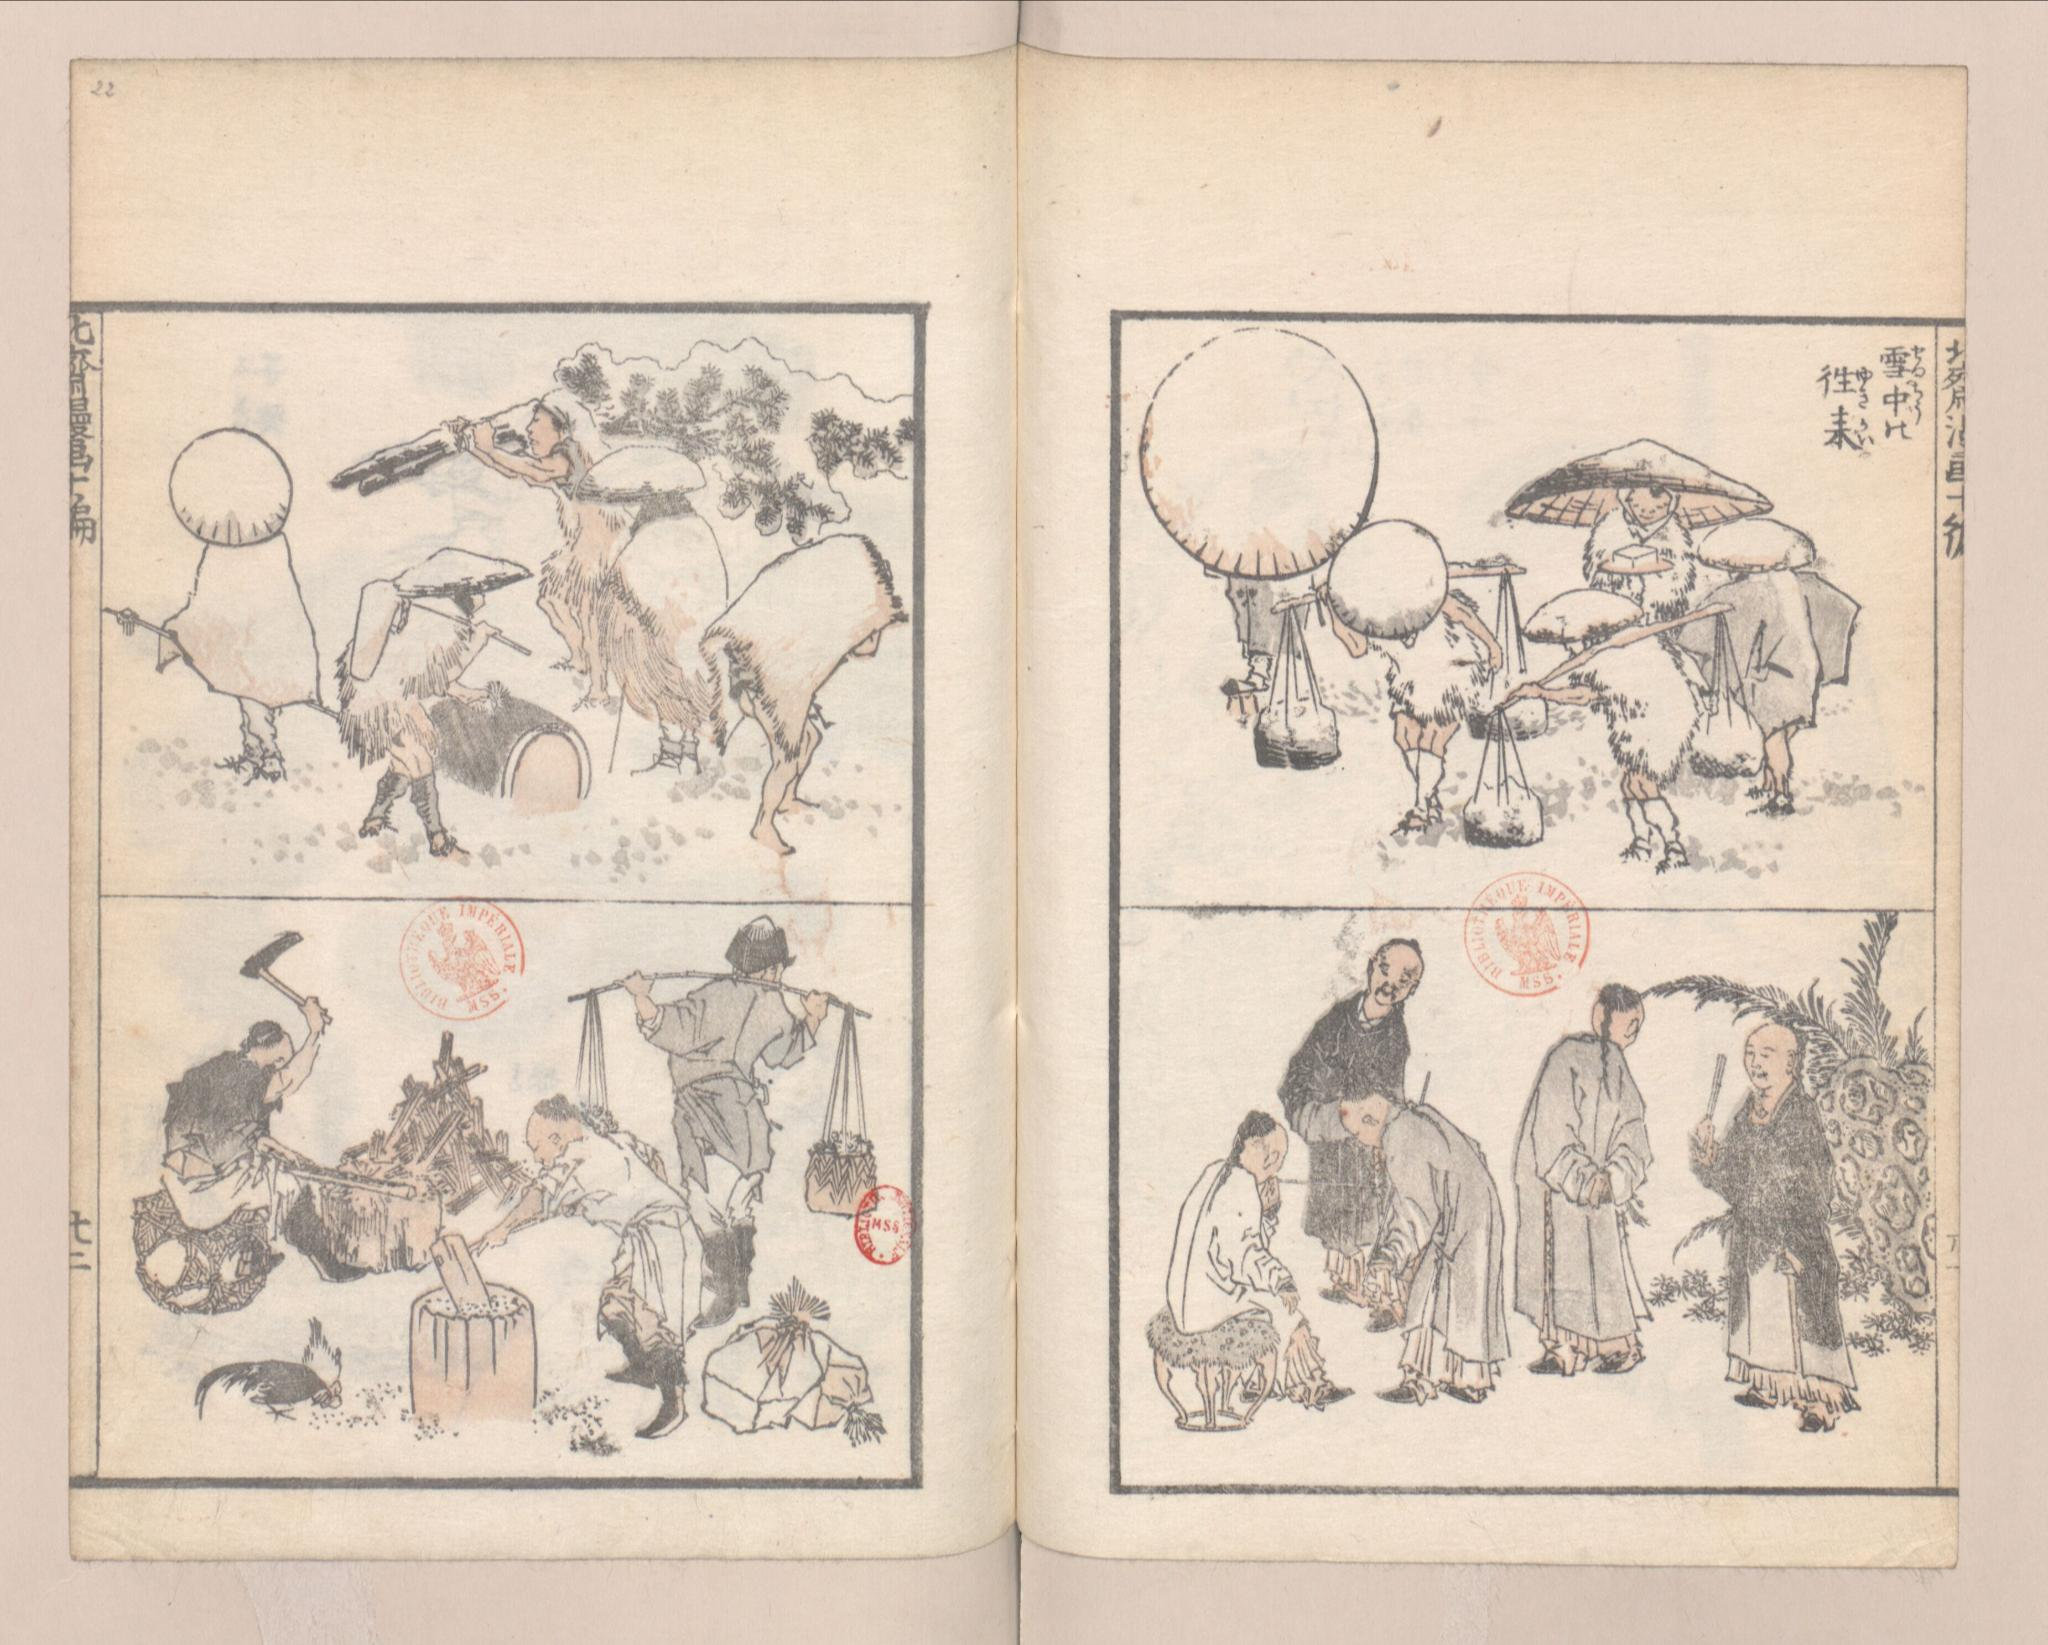MainZone-Character: (1808, 359, 1873, 410), (1816, 411, 1872, 458), (1878, 379, 1929, 421), (1878, 342, 1929, 381)
MainZone-Ruby: (1853, 359, 1872, 406), (1907, 339, 1927, 378), (1909, 381, 1929, 416), (1853, 416, 1875, 448)
